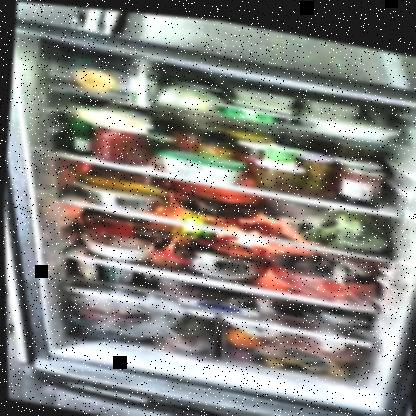banana: (83, 172, 171, 198)
cheese: (161, 144, 244, 180), (79, 104, 146, 128)
cream_cheese: (218, 96, 306, 124)
lemon: (261, 348, 303, 367)
lettuce: (299, 197, 388, 250)
orange: (224, 323, 265, 346)
tomato: (86, 216, 140, 241), (225, 212, 273, 232)
yoghurt: (259, 135, 302, 164)
